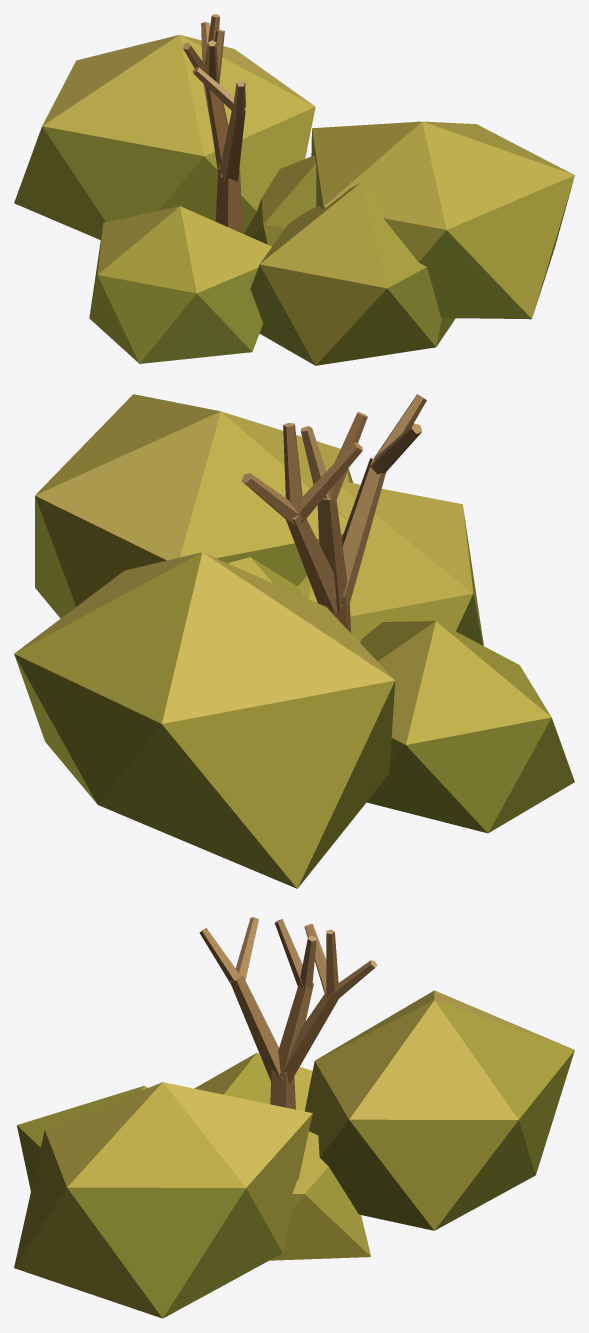
File: SM_DESERT_SHRUB_01.fbx
3 renders of one model, top to bottom at view 1: azimuth 30°, elevation 25°; view 2: azimuth 150°, elevation 25°; view 3: azimuth 270°, elevation 25°, orthographic. The views are drawn at different scales.
Parts seen in each view (by area): view 1: DESERT_SHRUB_01; view 2: DESERT_SHRUB_01; view 3: DESERT_SHRUB_01.
Part boxes in pixels (left/top/right/bottom): DESERT_SHRUB_01: left=14, top=14, right=574, bottom=365; DESERT_SHRUB_01: left=14, top=394, right=574, bottom=888; DESERT_SHRUB_01: left=14, top=917, right=574, bottom=1318.
Bounding box in the file's own units: 0.798 × 0.8838 × 0.4964.
